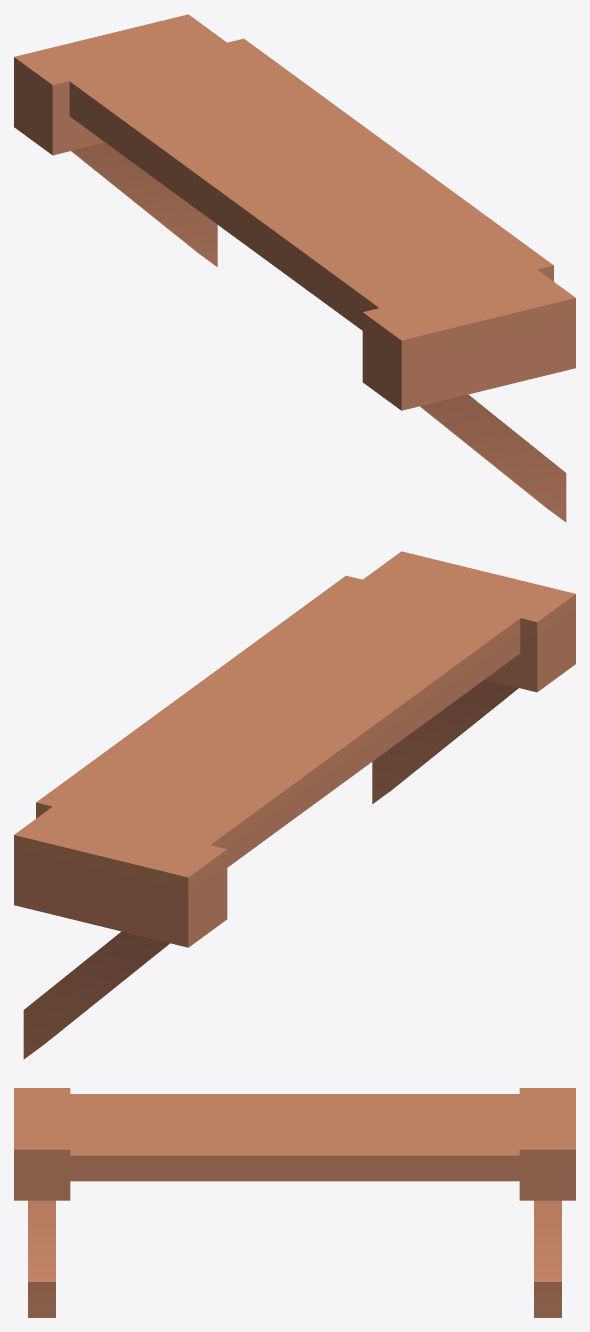
The model's file is overhang.glb.
3 renders of one model, top to bottom at view 1: azimuth 30°, elevation 25°; view 2: azimuth 150°, elevation 25°; view 3: azimuth 270°, elevation 25°, orthographic. The views are drawn at different scales.
Visible parts, largest first — view 1: overhang; view 2: overhang; view 3: overhang.
Part boxes in pixels (<box>): overhang: <box>14,14,575,522</box>; overhang: <box>14,551,575,1059</box>; overhang: <box>14,1088,575,1317</box>.
Size of the model in its own units: 0.285 by 0.33 by 1.
Materials: 1 (1 with a texture image).
